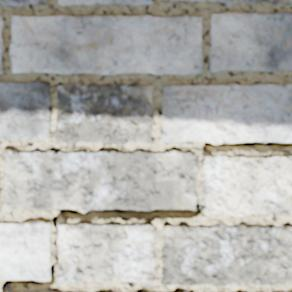brick: (2, 148, 197, 210), (10, 15, 202, 73), (161, 224, 291, 285), (161, 83, 291, 142), (56, 222, 156, 285), (54, 83, 154, 144), (204, 156, 291, 215), (209, 12, 291, 71), (0, 81, 49, 140), (0, 220, 49, 279), (59, 0, 151, 5), (194, 0, 291, 4), (0, 0, 46, 5), (0, 16, 2, 72)
crack: (1, 140, 291, 291), (46, 122, 51, 125)
